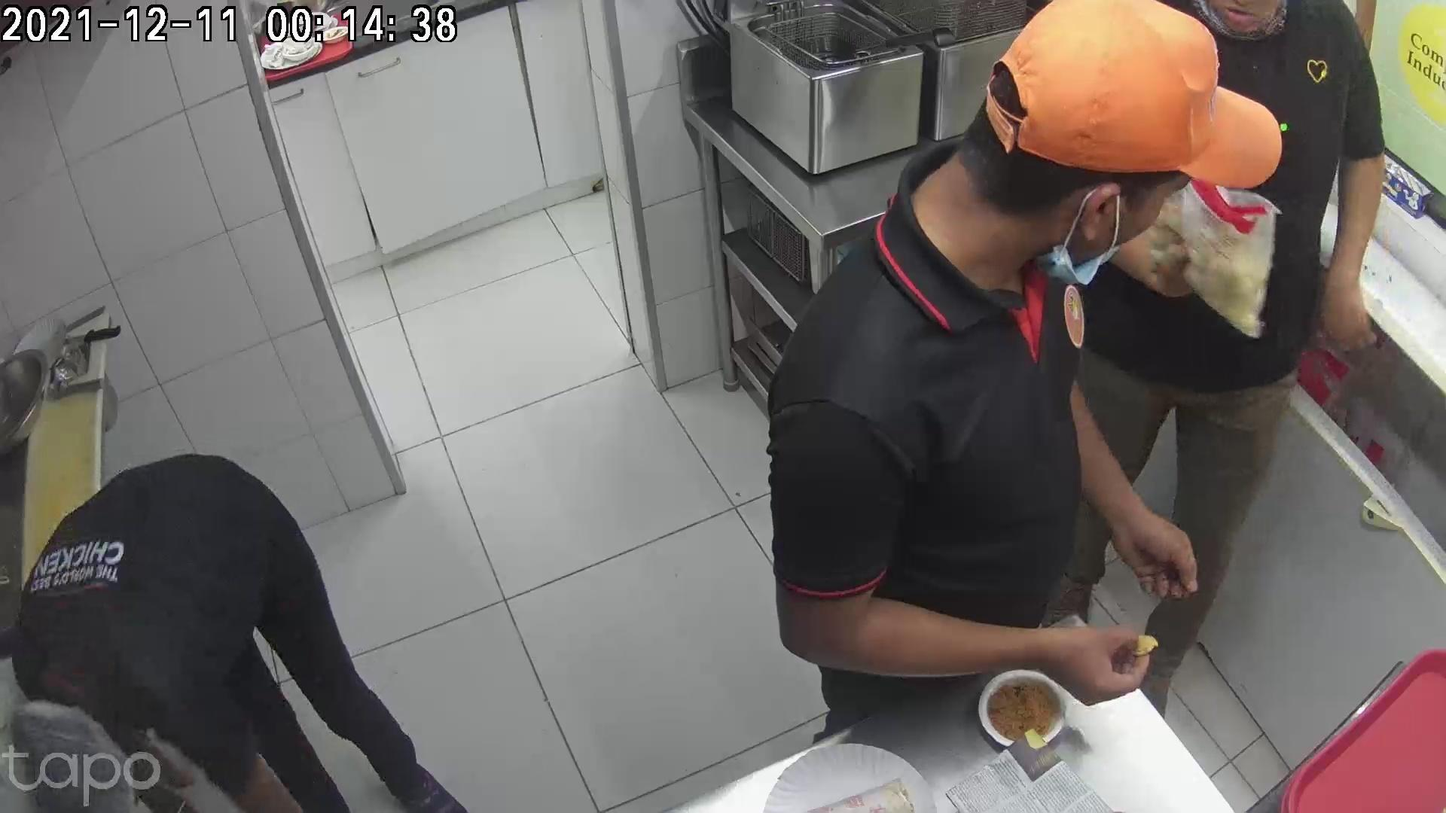no_gloves: (951, 451, 1008, 554)
